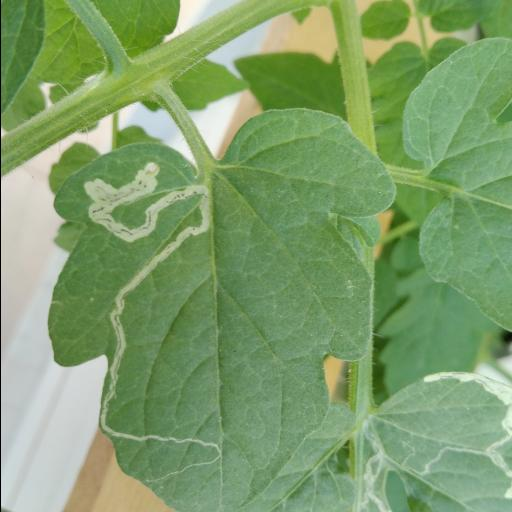Leaf Miner: (44, 106, 396, 512)
